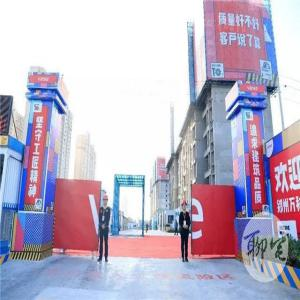red: (182, 201, 189, 213), (103, 195, 109, 207)
